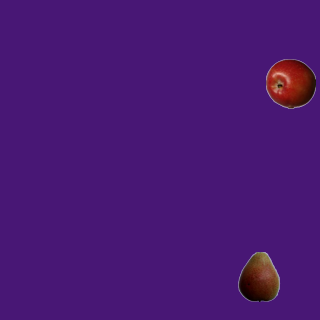Apple Braeburn: (265, 58, 315, 108)
Pear Forelle: (233, 251, 283, 301)
